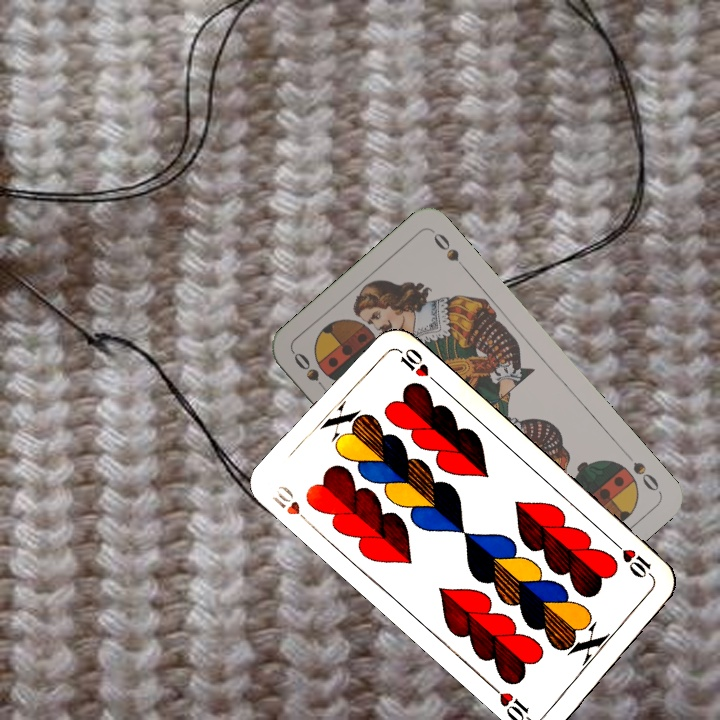H10: (269, 481, 316, 530), (610, 538, 658, 583)
SO: (289, 348, 333, 397), (619, 447, 662, 494)
